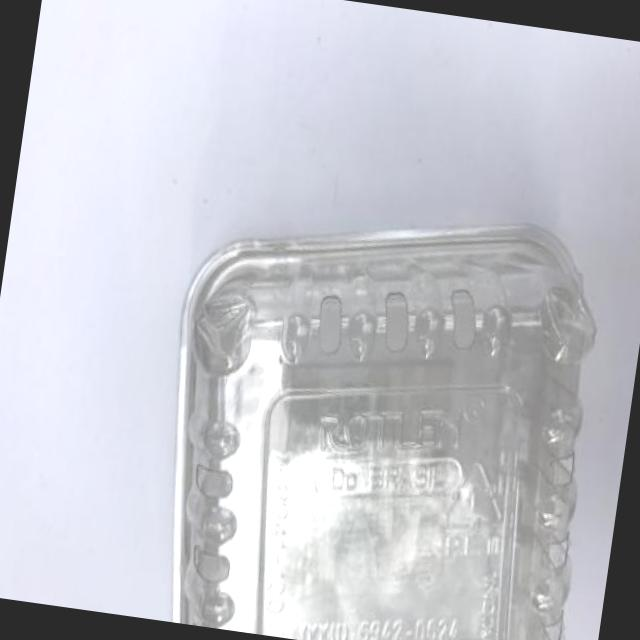Recycle: (139, 177, 623, 640)
